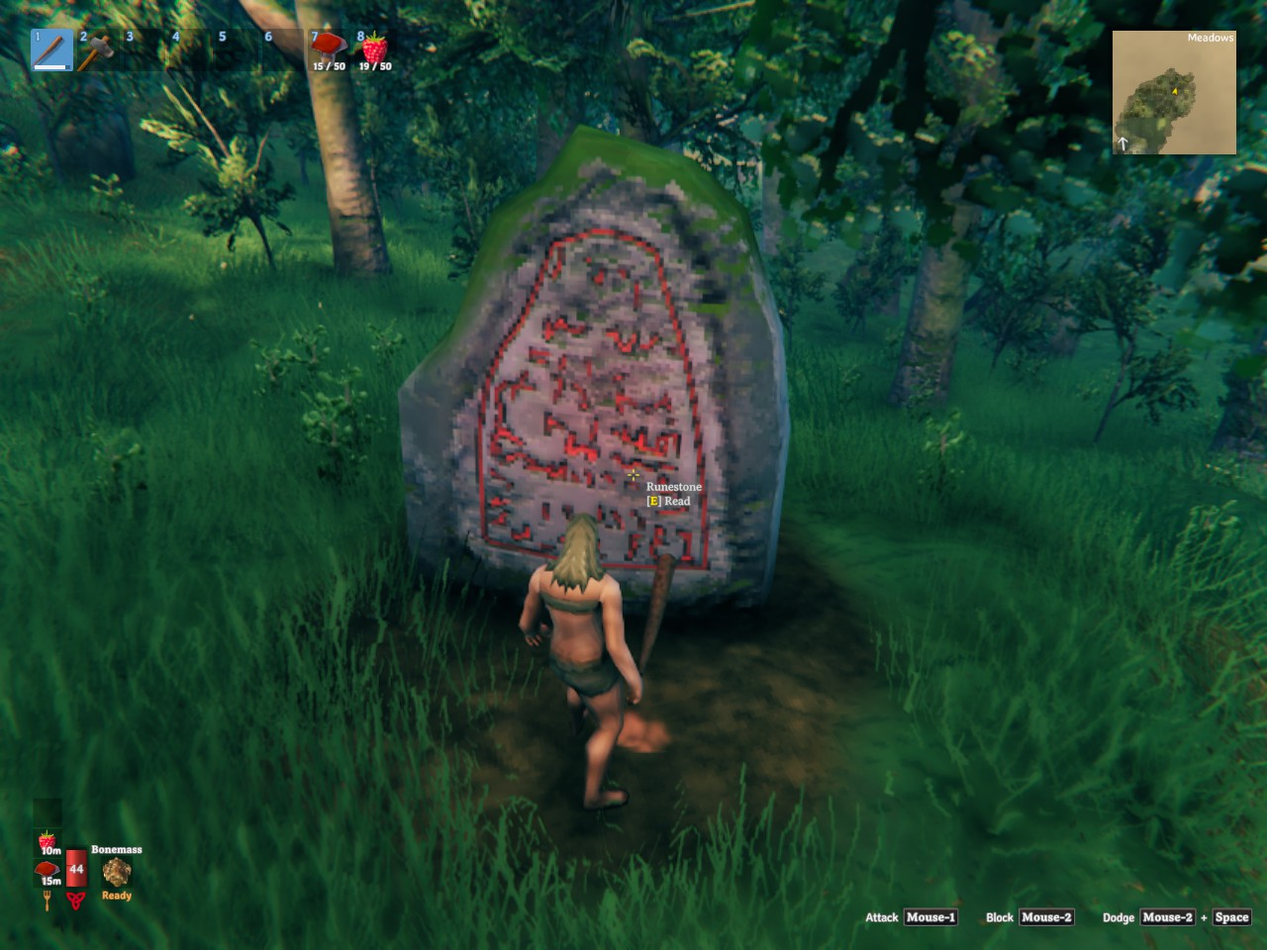Rune Stone: (400, 127, 789, 608)
